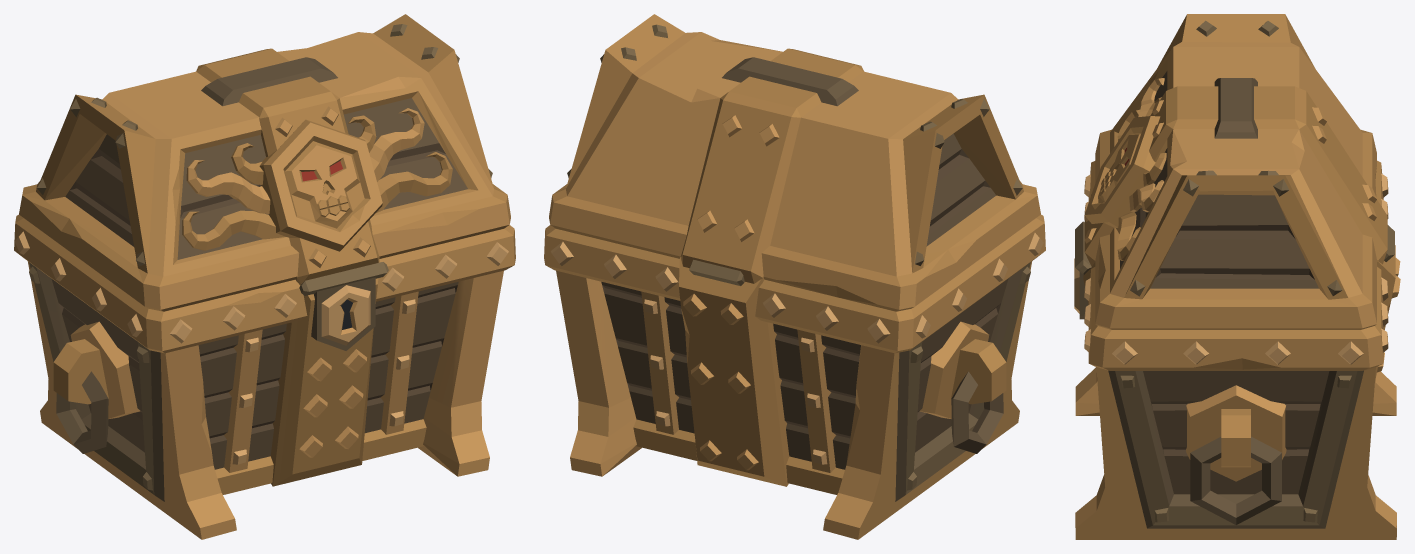
Rendered from SM_Prop_Treasure_Chest_05.fbx.
3 views of the same model, side by side, from view 1: azimuth 30°, elevation 25°; view 2: azimuth 150°, elevation 25°; view 3: azimuth 270°, elevation 25° (orthographic).
Parts seen in each view (by area): view 1: SM_Prop_Treasure_Chest_05, SM_Prop_Treasure_Chest_05_Lid; view 2: SM_Prop_Treasure_Chest_05_Lid, SM_Prop_Treasure_Chest_05; view 3: SM_Prop_Treasure_Chest_05_Lid, SM_Prop_Treasure_Chest_05.
Boxes of the visible parts, bbox=[...] form: SM_Prop_Treasure_Chest_05: bbox=[14, 214, 515, 539]; SM_Prop_Treasure_Chest_05_Lid: bbox=[19, 14, 510, 311]; SM_Prop_Treasure_Chest_05_Lid: bbox=[549, 14, 1040, 311]; SM_Prop_Treasure_Chest_05: bbox=[544, 214, 1045, 539]; SM_Prop_Treasure_Chest_05_Lid: bbox=[1084, 14, 1394, 329]; SM_Prop_Treasure_Chest_05: bbox=[1074, 160, 1400, 539].
Bounding box in the file's own units: 101 × 88.87 × 70.05.
